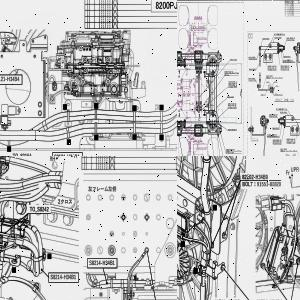PartNumber: (241, 173, 269, 180), (50, 274, 77, 280), (256, 181, 283, 187), (88, 260, 114, 266), (0, 75, 20, 82), (54, 152, 80, 156), (213, 298, 240, 300), (228, 81, 236, 83), (224, 72, 232, 74), (224, 70, 232, 72), (274, 36, 282, 38), (286, 37, 294, 39), (226, 148, 233, 150), (227, 96, 234, 98), (230, 58, 237, 60), (268, 67, 275, 69), (268, 66, 275, 68), (266, 75, 273, 77), (281, 67, 288, 69), (281, 65, 288, 67), (269, 114, 276, 116), (280, 148, 287, 150), (228, 103, 234, 105), (229, 84, 235, 86), (273, 141, 279, 143), (273, 139, 279, 141), (287, 140, 293, 142), (262, 38, 270, 39), (248, 78, 256, 79), (228, 129, 235, 130), (228, 83, 235, 84), (249, 69, 256, 70), (280, 112, 287, 113), (228, 105, 234, 106), (249, 57, 255, 58), (284, 56, 290, 57), (273, 128, 279, 129), (287, 139, 293, 140)
